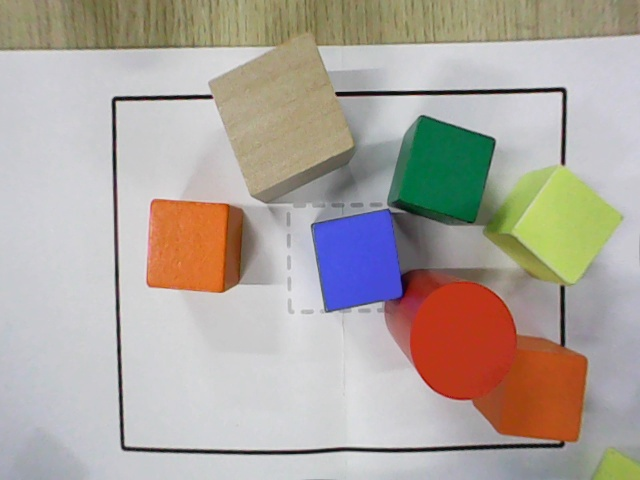upside of big cube: (207, 28, 356, 198)
upside of cylinder: (409, 281, 518, 401)
upside of small cube: (509, 164, 624, 286), (398, 115, 496, 224), (312, 210, 401, 312), (498, 349, 588, 443), (146, 200, 228, 293)
